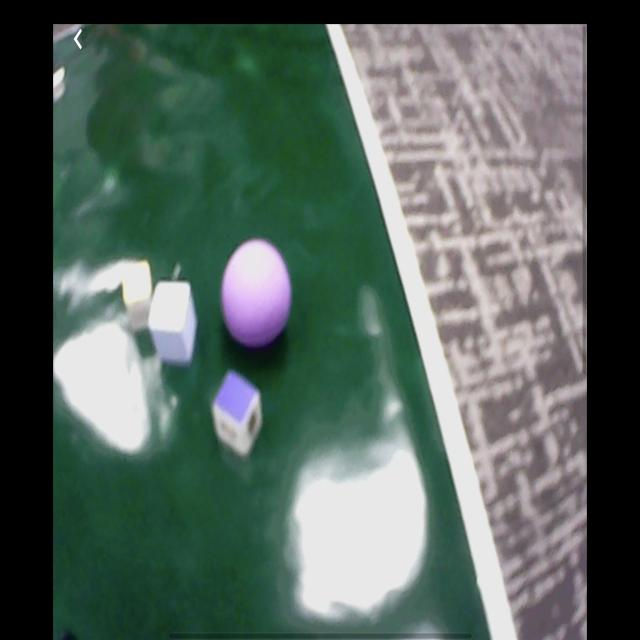ball: (222, 240, 291, 348)
